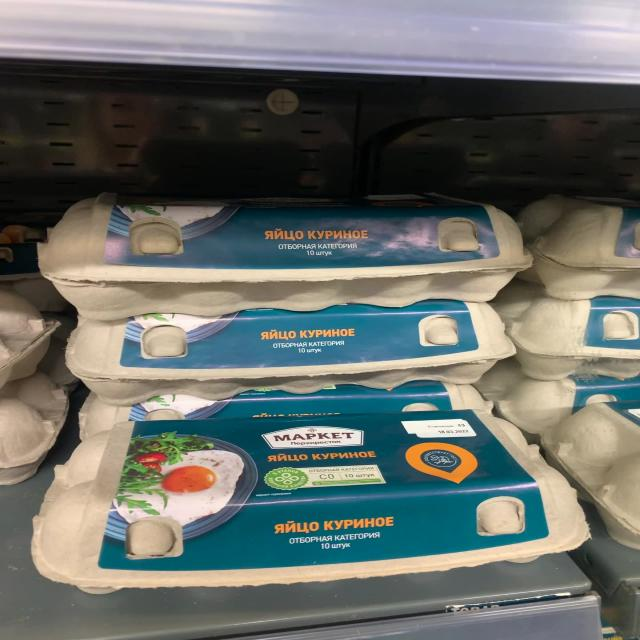egg box: (32, 409, 590, 590), (34, 193, 532, 321), (59, 308, 522, 405)
